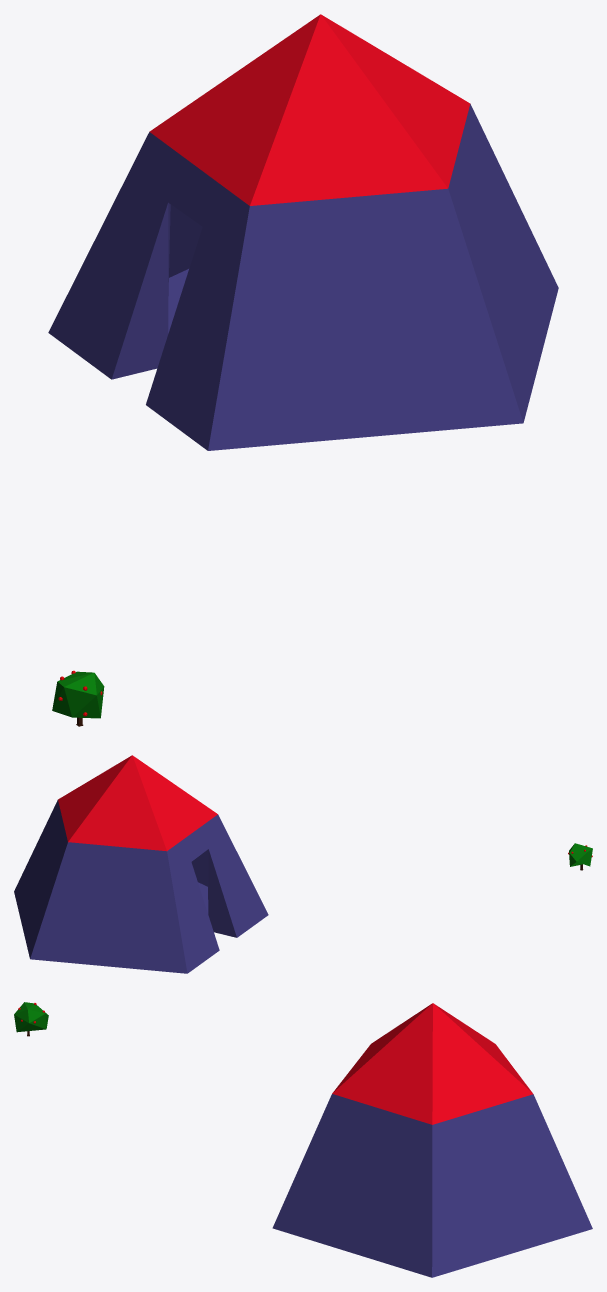
File: Jagody.fbx
The picture shows the model from 3 angles, top to bottom: view 1: azimuth 30°, elevation 25°; view 2: azimuth 150°, elevation 25°; view 3: azimuth 270°, elevation 25°; orthographic projection. The views are drawn at different scales.
Parts seen in each view (by area): view 1: Namiot, Krzak; view 2: Namiot, Krzak; view 3: Namiot, Krzak.
Boxes of the visible parts, x1,y1,x2,y2 form: Namiot: (48,14,558,450); Krzak: (52,671,104,726); Namiot: (14,755,268,973); Krzak: (569,843,592,870); Namiot: (272,1003,592,1277); Krzak: (14,1002,48,1036).
Size of the model in its own units: 262 by 100 by 258.
